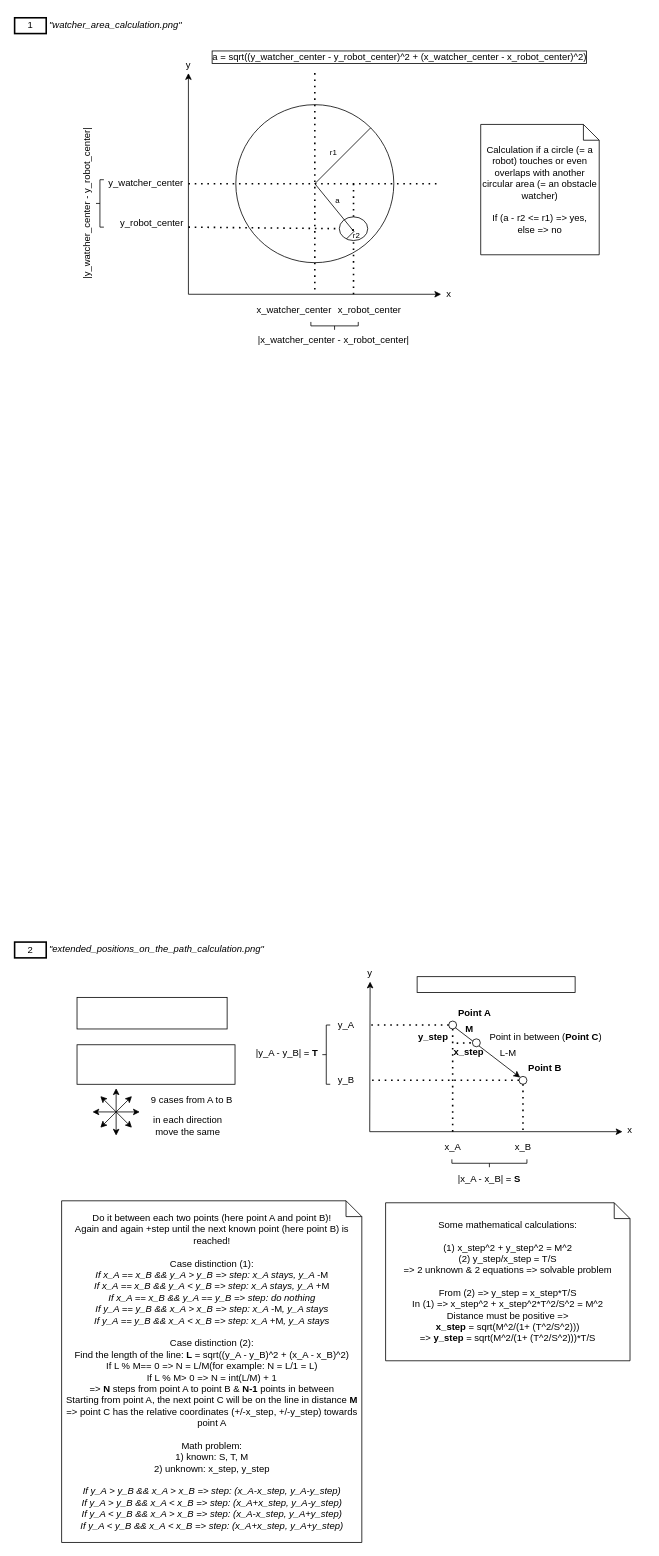
This 659x1556 diagram has some shape labels left out. The centre of each missing label's shape, as x and y in pixels:
"Idea: always move on the line with a move M (= 1 for example)" goes at pixel 155 1064.
"Point A is before Point B in the time!" goes at pixel 495 984.
"Task: Fill out the points in between point A and point B" goes at pixel 151 1013.
